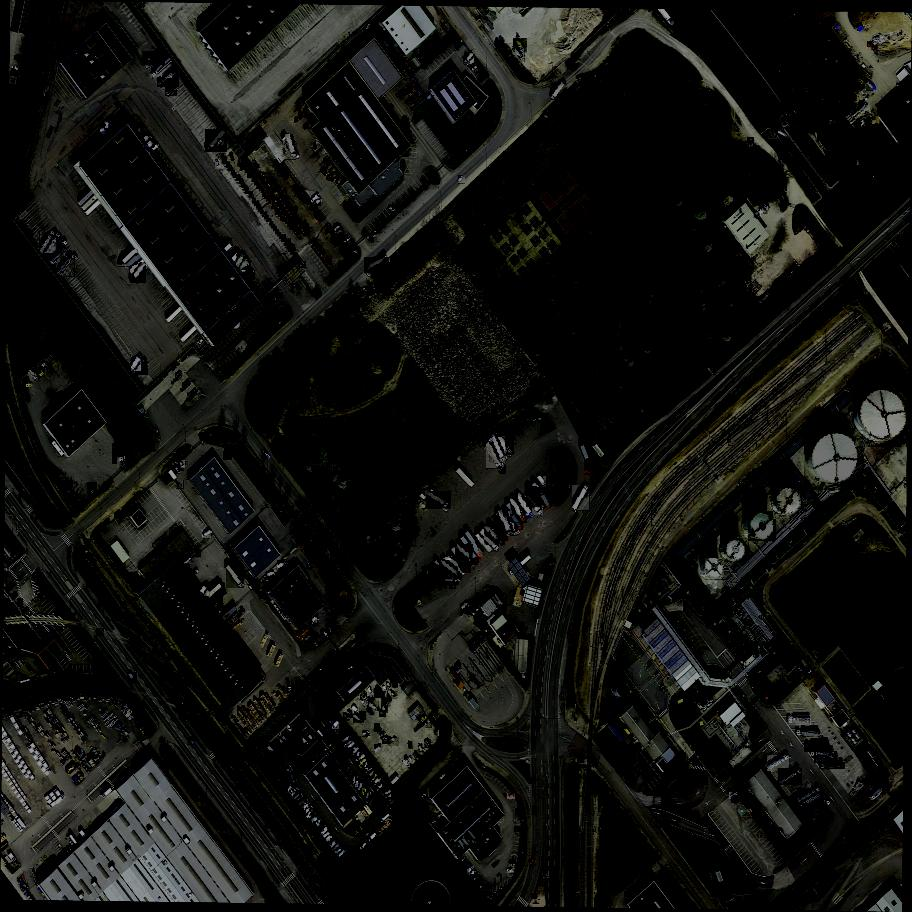large-vehicle: (429, 563, 459, 586), (479, 528, 501, 552), (205, 129, 227, 152), (573, 485, 591, 512), (492, 434, 515, 455), (439, 561, 463, 581), (484, 524, 506, 545), (150, 59, 173, 79), (455, 545, 478, 565), (526, 486, 545, 510), (778, 768, 803, 786), (510, 498, 528, 523), (426, 491, 451, 509), (57, 254, 76, 277), (524, 493, 543, 516), (226, 565, 244, 589), (493, 514, 509, 541), (486, 442, 502, 469), (490, 436, 506, 463), (112, 443, 132, 464), (43, 234, 62, 256), (364, 258, 390, 274), (797, 788, 821, 805), (812, 798, 828, 823), (158, 69, 180, 87), (40, 230, 57, 253), (802, 793, 825, 810), (767, 755, 791, 771), (117, 249, 138, 267), (130, 262, 147, 284), (142, 51, 165, 67), (498, 510, 511, 537), (804, 740, 830, 753), (518, 494, 532, 518), (506, 509, 518, 536), (286, 134, 297, 160), (551, 82, 566, 101), (811, 748, 834, 759), (512, 46, 527, 62), (788, 715, 812, 725), (815, 754, 838, 764), (513, 38, 528, 53), (133, 362, 149, 375), (819, 762, 845, 770), (796, 729, 821, 737), (473, 542, 485, 558), (469, 547, 480, 564), (460, 559, 472, 574), (132, 356, 143, 372), (541, 493, 552, 509), (870, 788, 883, 801), (165, 85, 179, 97), (239, 260, 253, 271), (236, 253, 247, 267), (514, 515, 524, 530), (28, 370, 40, 382), (87, 482, 98, 495), (245, 270, 256, 281), (316, 730, 327, 741), (464, 53, 474, 65), (200, 584, 210, 596), (149, 145, 161, 155), (537, 476, 547, 488), (585, 459, 592, 475), (369, 701, 380, 711), (33, 367, 44, 377), (142, 135, 153, 145), (189, 569, 200, 579), (381, 814, 392, 824), (392, 805, 402, 816), (387, 797, 397, 808), (145, 141, 157, 150), (117, 455, 126, 467), (293, 791, 303, 801), (403, 759, 413, 769), (107, 118, 117, 128), (223, 451, 233, 461), (352, 750, 362, 760), (39, 363, 49, 373), (374, 689, 385, 698), (381, 698, 392, 707), (358, 696, 367, 707), (388, 738, 399, 747), (265, 572, 276, 581), (277, 560, 288, 569), (325, 834, 335, 843), (362, 692, 371, 702), (299, 799, 309, 808), (306, 809, 315, 819), (311, 194, 320, 204), (424, 738, 433, 748), (338, 850, 348, 859), (369, 831, 378, 841), (356, 755, 366, 764), (351, 746, 360, 756), (342, 735, 351, 745), (503, 651, 512, 661), (353, 716, 364, 724), (357, 784, 365, 795), (312, 815, 320, 826), (390, 678, 398, 689), (136, 126, 144, 137), (99, 126, 107, 137), (371, 773, 379, 784), (291, 788, 300, 797), (333, 224, 342, 233), (467, 59, 476, 68), (367, 708, 376, 717), (323, 830, 332, 839), (241, 267, 250, 276), (288, 784, 296, 794), (321, 826, 329, 836), (326, 623, 334, 633), (331, 840, 339, 850), (333, 843, 341, 853), (202, 530, 212, 538), (381, 790, 391, 798), (368, 770, 376, 780), (338, 732, 348, 740), (266, 744, 276, 752), (104, 121, 111, 132), (296, 795, 305, 803), (315, 820, 324, 828), (317, 823, 326, 831), (320, 629, 328, 638), (376, 782, 384, 791), (348, 743, 357, 751), (461, 603, 469, 612), (759, 206, 768, 214), (365, 792, 372, 802), (359, 758, 366, 768), (381, 707, 389, 715), (352, 706, 360, 714), (365, 767, 373, 775), (362, 763, 370, 771), (303, 804, 312, 811), (368, 687, 375, 696), (336, 228, 345, 235), (336, 849, 345, 856), (383, 795, 392, 802), (344, 741, 353, 748), (866, 84, 874, 91), (277, 736, 284, 744), (333, 721, 340, 729), (391, 802, 397, 811), (376, 778, 382, 787), (361, 842, 368, 849), (312, 617, 319, 624), (279, 734, 286, 741), (381, 686, 388, 693), (308, 733, 315, 740), (304, 734, 310, 742), (285, 766, 291, 774), (310, 814, 318, 820), (343, 239, 351, 245), (418, 744, 424, 752), (314, 200, 322, 206), (379, 712, 387, 718), (386, 683, 392, 691), (355, 781, 360, 790), (353, 775, 357, 786), (290, 774, 296, 781), (301, 738, 307, 745), (757, 210, 763, 216), (27, 376, 30, 387), (362, 789, 364, 797), (754, 212, 757, 217)
small-vehicle: (433, 560, 444, 570), (374, 745, 384, 755), (127, 673, 137, 683), (96, 628, 105, 637), (176, 480, 185, 489), (449, 581, 457, 590), (382, 736, 391, 744), (422, 593, 431, 601), (499, 465, 507, 474), (388, 205, 397, 213), (194, 549, 202, 558), (379, 731, 388, 739), (66, 480, 74, 489), (65, 251, 74, 259), (298, 262, 307, 270), (729, 792, 737, 801), (340, 234, 348, 242), (269, 295, 277, 303), (197, 339, 205, 347), (343, 713, 351, 721), (472, 872, 480, 880), (187, 738, 196, 745), (374, 724, 381, 733), (211, 146, 220, 153), (360, 711, 367, 720), (748, 144, 757, 151), (415, 750, 422, 759), (201, 456, 210, 463), (17, 598, 24, 607), (194, 463, 203, 470), (215, 160, 221, 170), (426, 720, 433, 728), (391, 691, 398, 699), (459, 176, 466, 184), (219, 138, 226, 146), (445, 575, 453, 582), (747, 137, 755, 144), (732, 796, 740, 803), (479, 882, 486, 890), (467, 866, 474, 874), (464, 863, 472, 870), (461, 859, 468, 867), (514, 826, 522, 833), (529, 859, 536, 867), (362, 731, 370, 738), (35, 590, 42, 598), (348, 709, 354, 718), (420, 804, 426, 813), (306, 562, 313, 569), (477, 880, 484, 887), (470, 870, 477, 877), (460, 856, 467, 863), (180, 461, 187, 468), (378, 728, 384, 736), (418, 599, 424, 607), (472, 66, 480, 72), (366, 733, 372, 741), (531, 777, 537, 785), (507, 794, 515, 800), (11, 67, 19, 73), (178, 462, 184, 470), (764, 203, 770, 210), (423, 810, 429, 817), (38, 594, 44, 601), (413, 753, 418, 761), (507, 868, 515, 873), (532, 807, 537, 815), (288, 725, 293, 733), (15, 56, 23, 61), (408, 756, 414, 762), (264, 452, 270, 458), (10, 71, 17, 76), (509, 859, 514, 864), (408, 742, 412, 748), (64, 478, 67, 485), (475, 876, 479, 881)
storage-tank: (804, 428, 864, 492), (855, 386, 912, 448), (774, 483, 808, 519), (748, 512, 776, 543), (724, 537, 750, 564), (706, 558, 724, 579)
